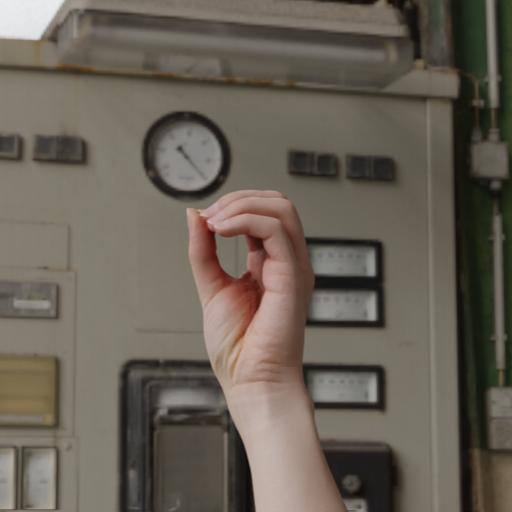O: (168, 182, 362, 506)
